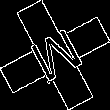M_SE: (23, 22, 87, 88)
